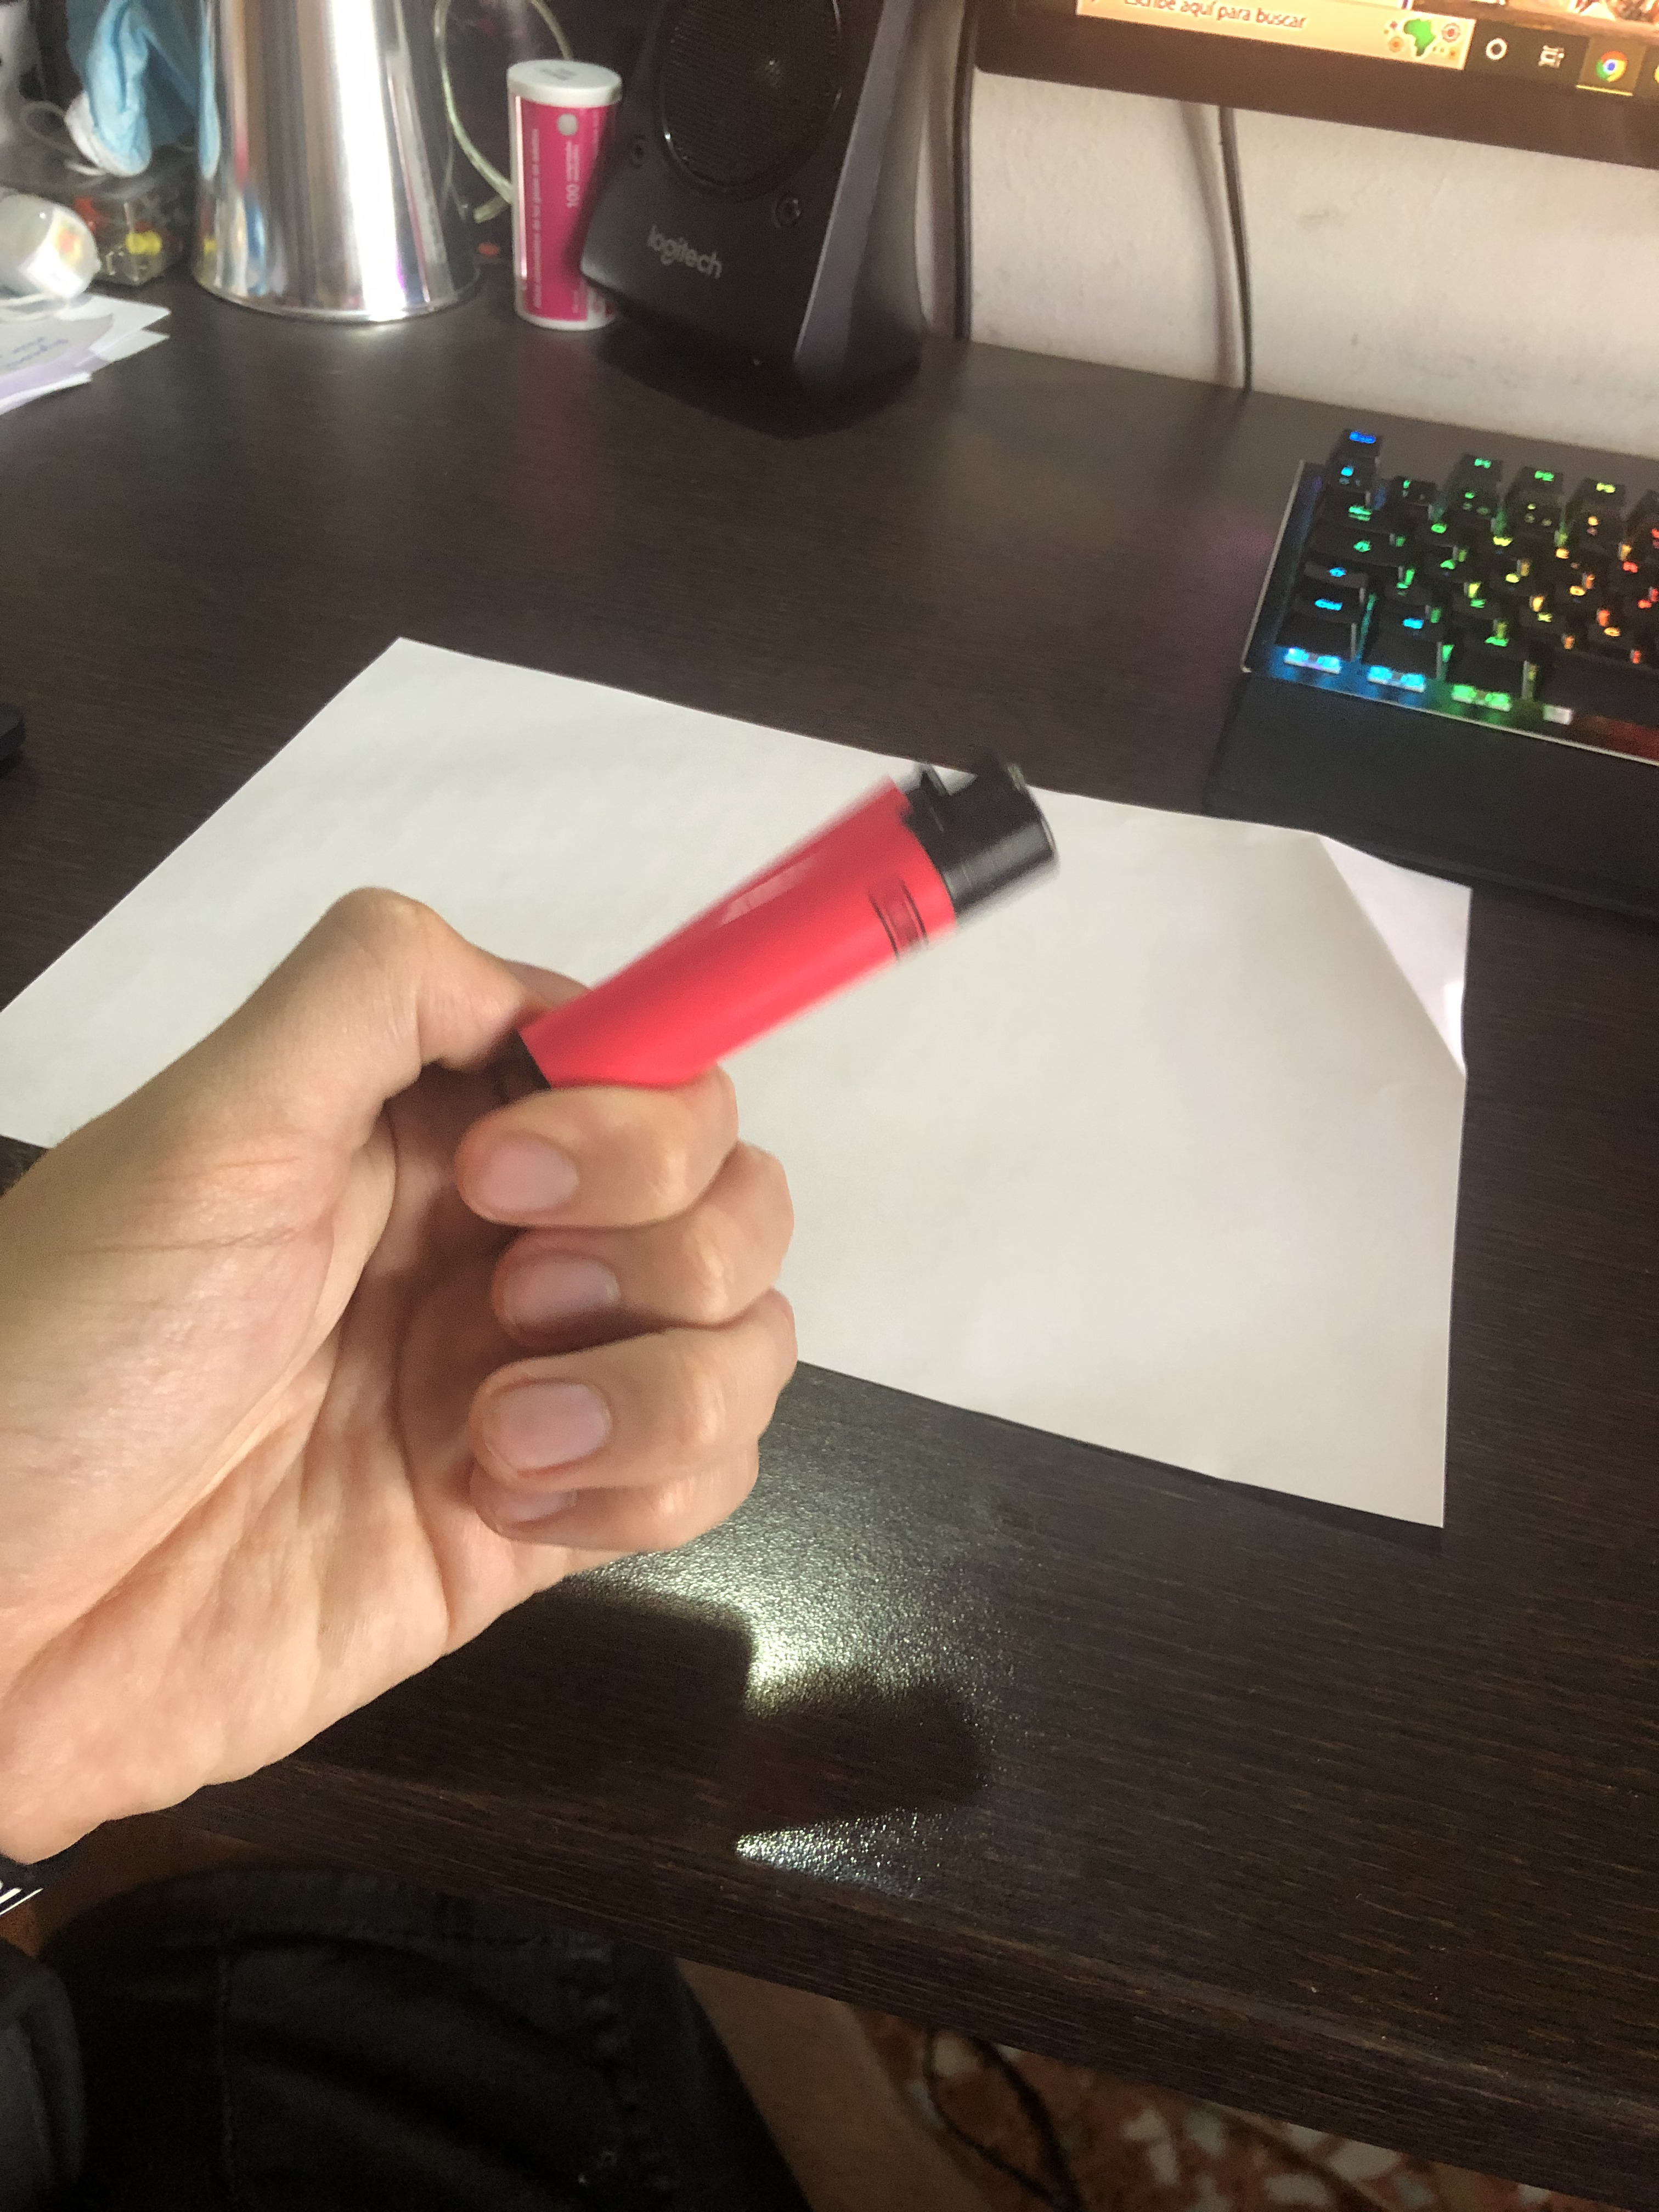Mechero: (488, 742, 1061, 1134)
